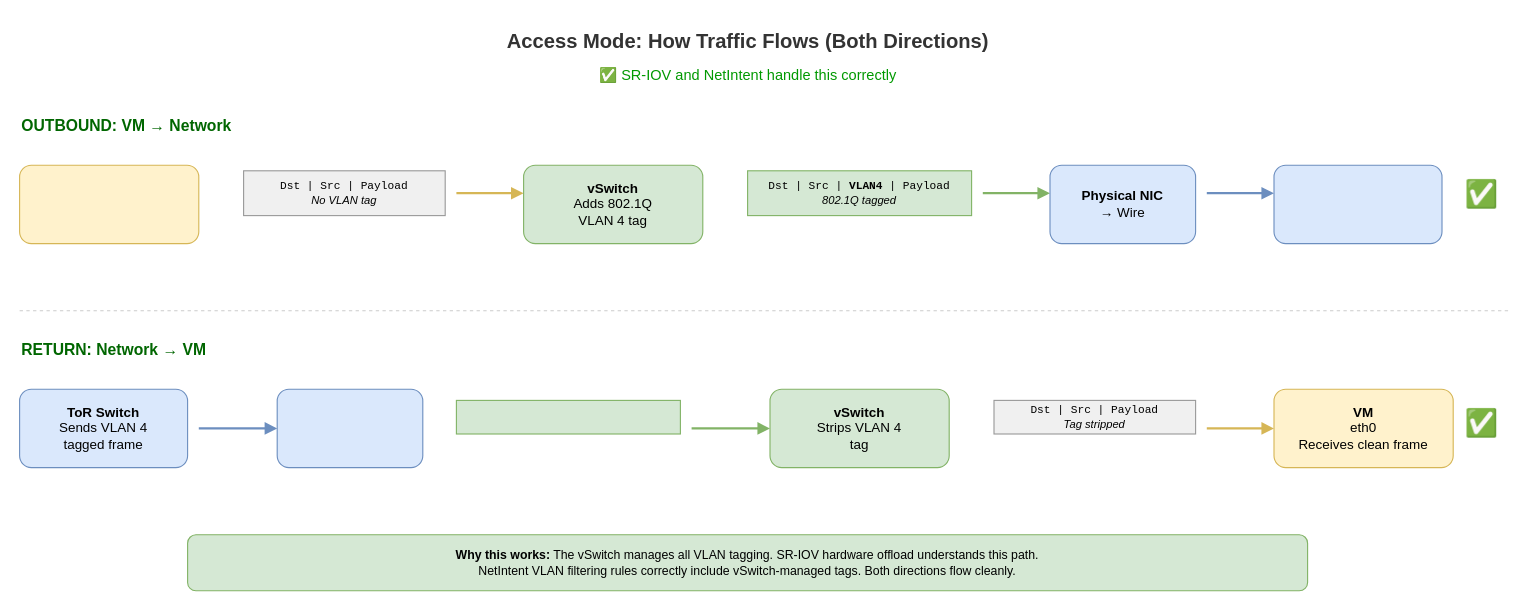
The diagram is 1530 pixels wide and 610 high, and some of its shapes have lost their labels. Here are the shapes that lost their labels. From the top down, the box of each, then its label:
(18, 164, 199, 244): VM eth0 Access -VlanId 4
(1273, 164, 1442, 244): ToR Switch Trunk Port VLAN 4 ✅
(276, 388, 423, 468): Physical NIC ← Wire
(455, 399, 680, 434): Dst | Src | VLAN4 | Payload
